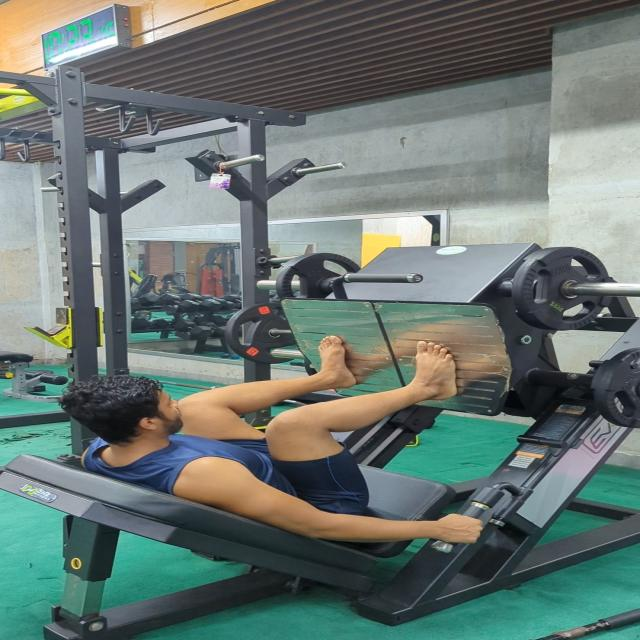Normal_LegPress: (41, 332, 501, 566)
